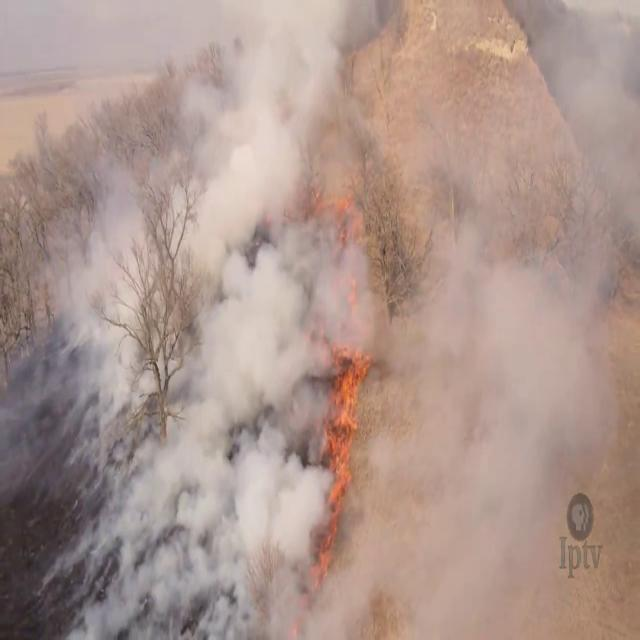Fire: (312, 341, 374, 568)
Smoke: (1, 0, 640, 636)
